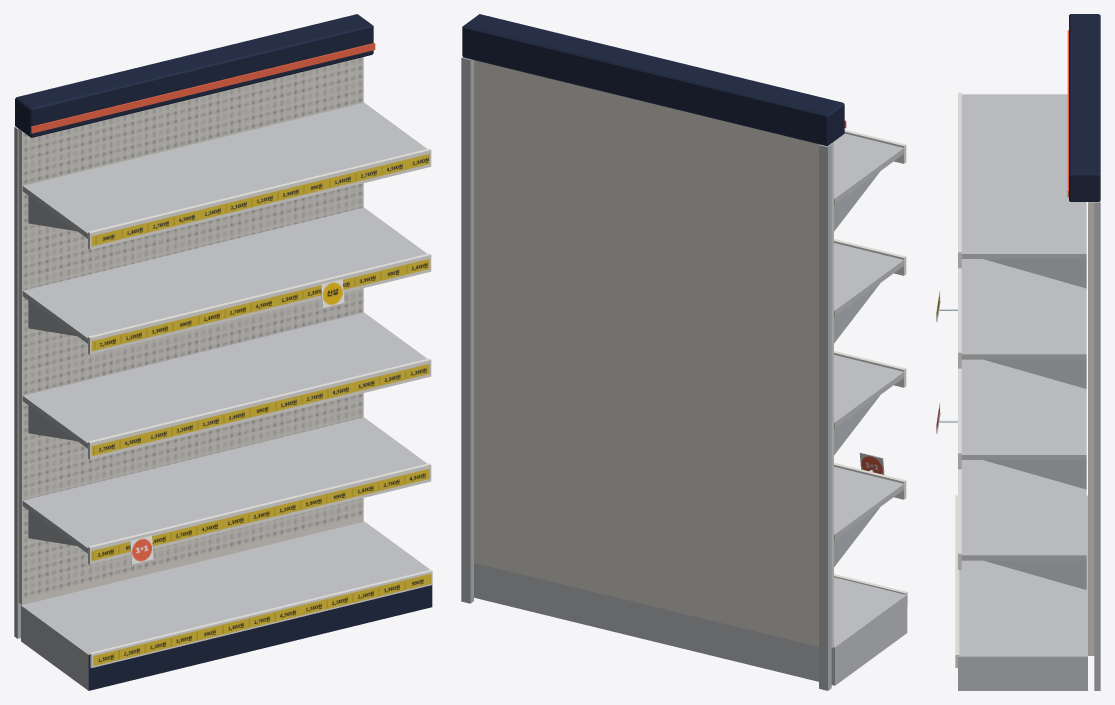
File: SC_Fix_Shelf_Wall_1200.gltf
The picture shows the model from 3 angles, left to right: view 1: azimuth 30°, elevation 25°; view 2: azimuth 150°, elevation 25°; view 3: azimuth 270°, elevation 25°; orthographic projection. The views are drawn at different scales.
Visible parts, largest first — view 1: SC_Fix_Shelf_Wall_1200; view 2: SC_Fix_Shelf_Wall_1200; view 3: SC_Fix_Shelf_Wall_1200.
Part boxes in pixels (x1=…): SC_Fix_Shelf_Wall_1200: x1=14, y1=14, x2=432, y2=690; SC_Fix_Shelf_Wall_1200: x1=461, y1=14, x2=907, y2=690; SC_Fix_Shelf_Wall_1200: x1=936, y1=14, x2=1100, y2=690.
Size of the model in its own units: 1.2 by 1.8 by 0.5177.
2 materials, 2 textured.
